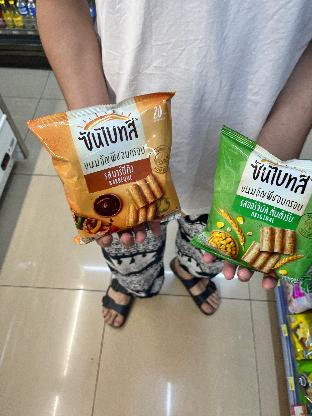Plastic Packaging: (26, 90, 190, 244), (188, 122, 312, 278)
